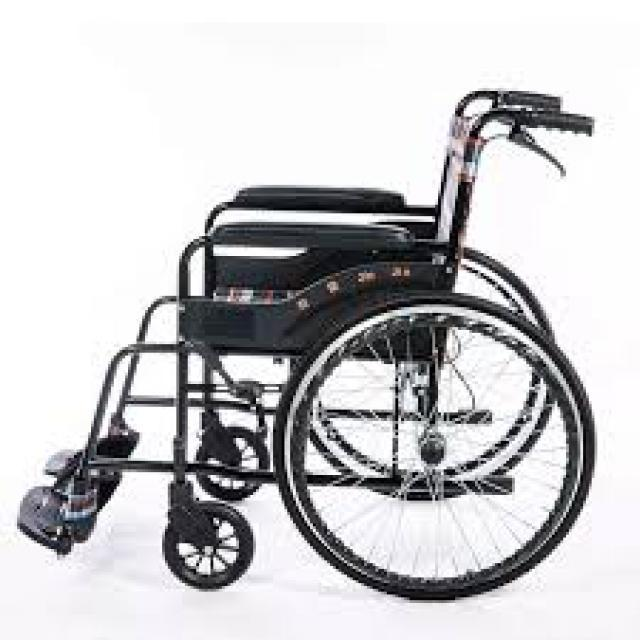wheelchair: (0, 77, 623, 638)
